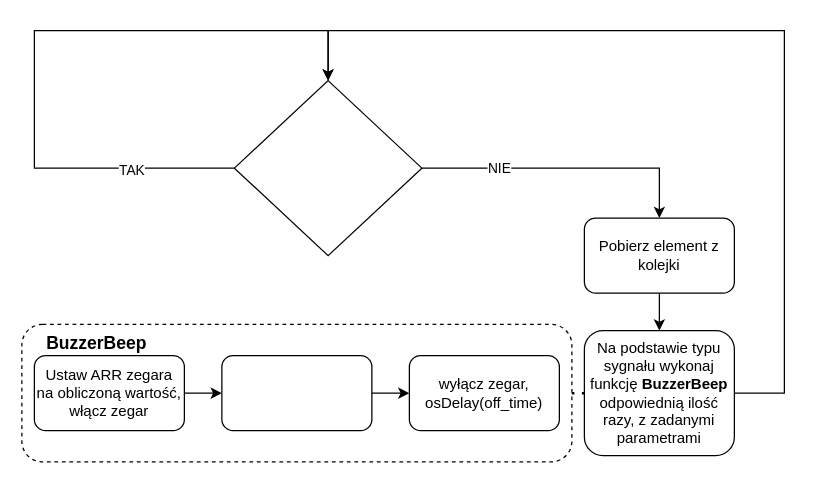
Some shapes in this 816 by 484 pixel diagram are drawn without their labels. Here are the shapes that lost their labels. From the top down, the centre of each, then its label:
the point at 327,167: Kolejka jest pusta
the point at 296,392: osDelay(on_time)
